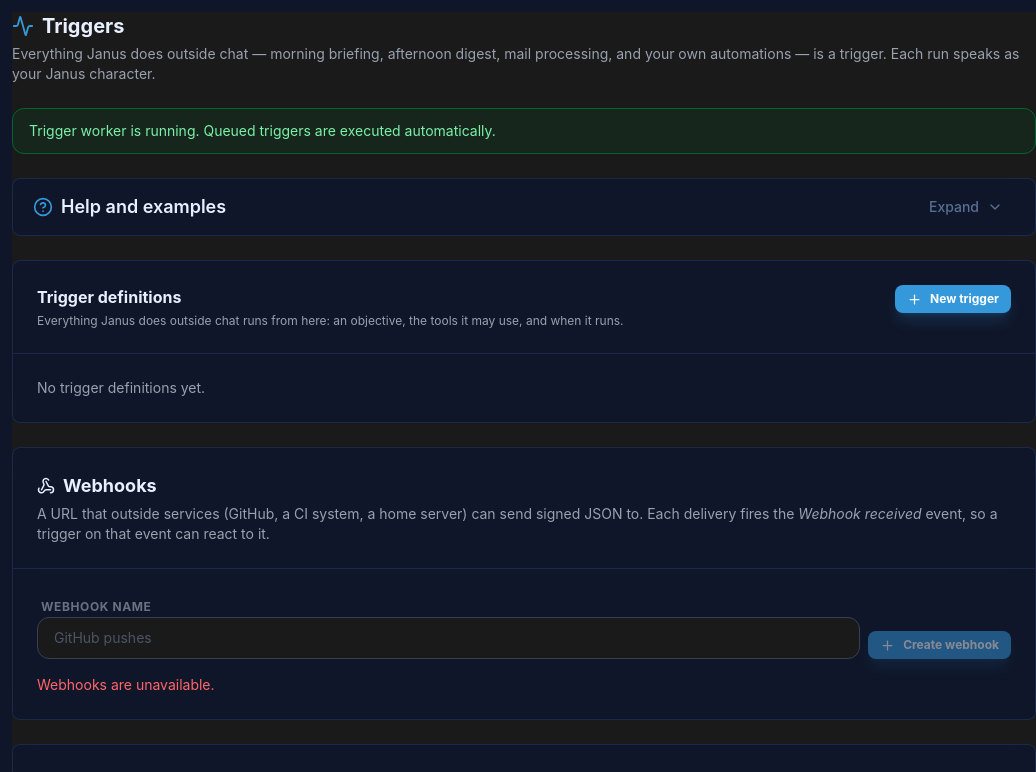
RuntimeTriggerManager › keeps runtime trigger help collapsed until requested and links to the user guide
Click the button with aria-label "Expand Help and examples". click: click(966, 207)
box: [917,191,1015,223]
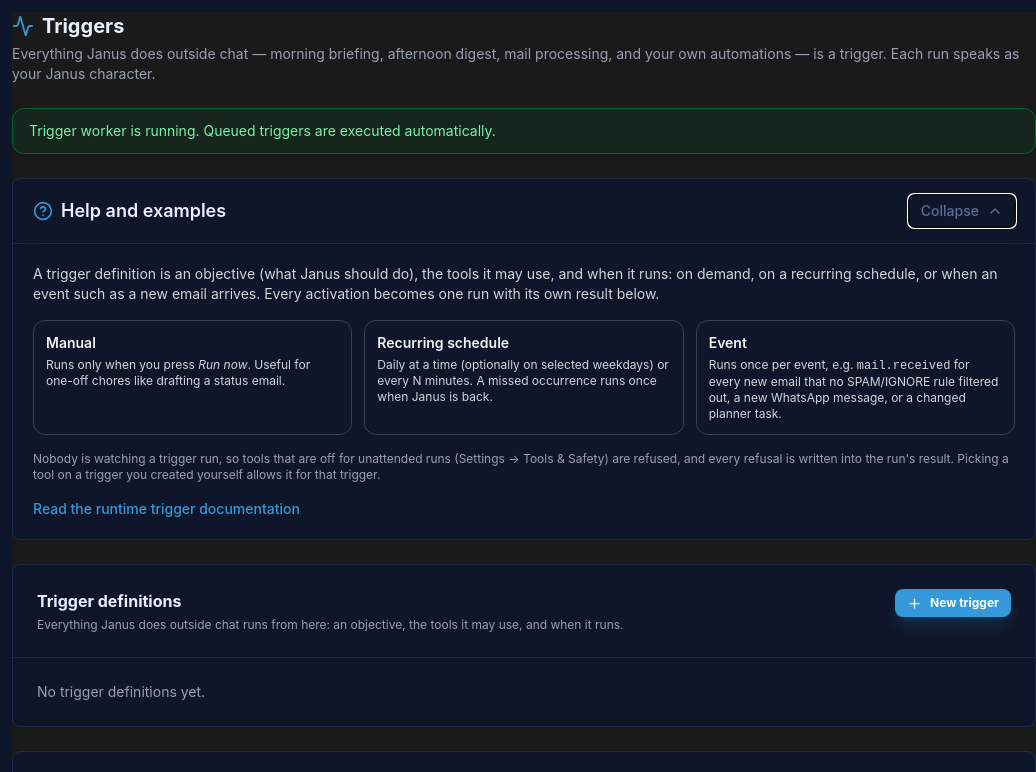
Now the text "on demand, on a recurring schedule, or when an event" is shown, box [33,265,998,302]
